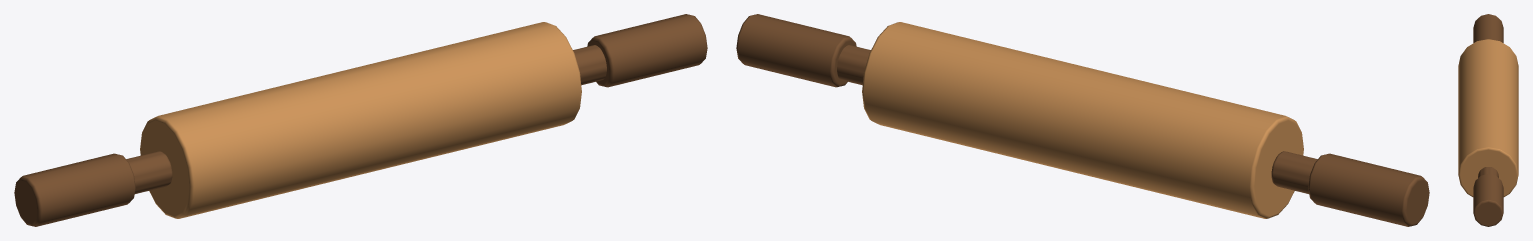
Rendered from RollingPin.glb.
3 renders of one model, left to right at view 1: azimuth 30°, elevation 25°; view 2: azimuth 150°, elevation 25°; view 3: azimuth 270°, elevation 25°, orthographic. The views are drawn at different scales.
Visible parts, largest first — view 1: RollingPin; view 2: RollingPin; view 3: RollingPin.
Part boxes in pixels (x1=…): RollingPin: x1=14, y1=14, x2=707, y2=226; RollingPin: x1=736, y1=14, x2=1429, y2=226; RollingPin: x1=1458, y1=14, x2=1518, y2=226.
Bounding box in the file's own units: 0.41 × 0.056 × 0.056.
